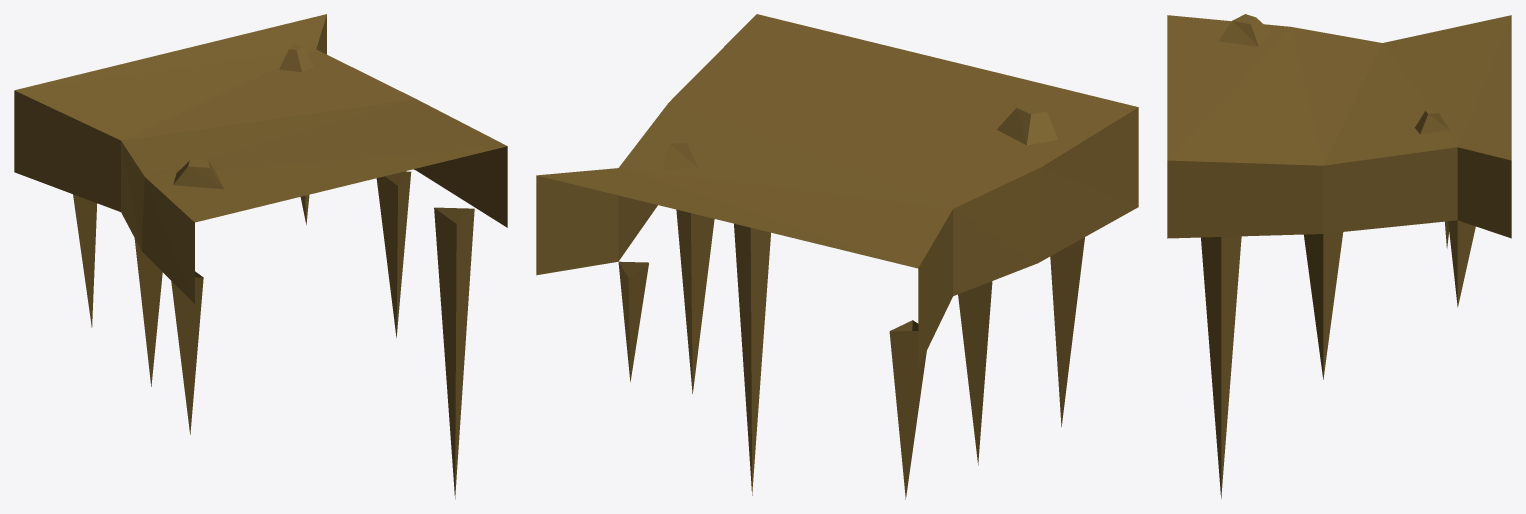
Rendered from obj_bridge_4_0.obj.
The picture shows the model from 3 angles, left to right: view 1: azimuth 30°, elevation 25°; view 2: azimuth 150°, elevation 25°; view 3: azimuth 270°, elevation 25°; orthographic projection. The views are drawn at different scales.
Bounding box in the file's own units: 1 × 1.18 × 1.
